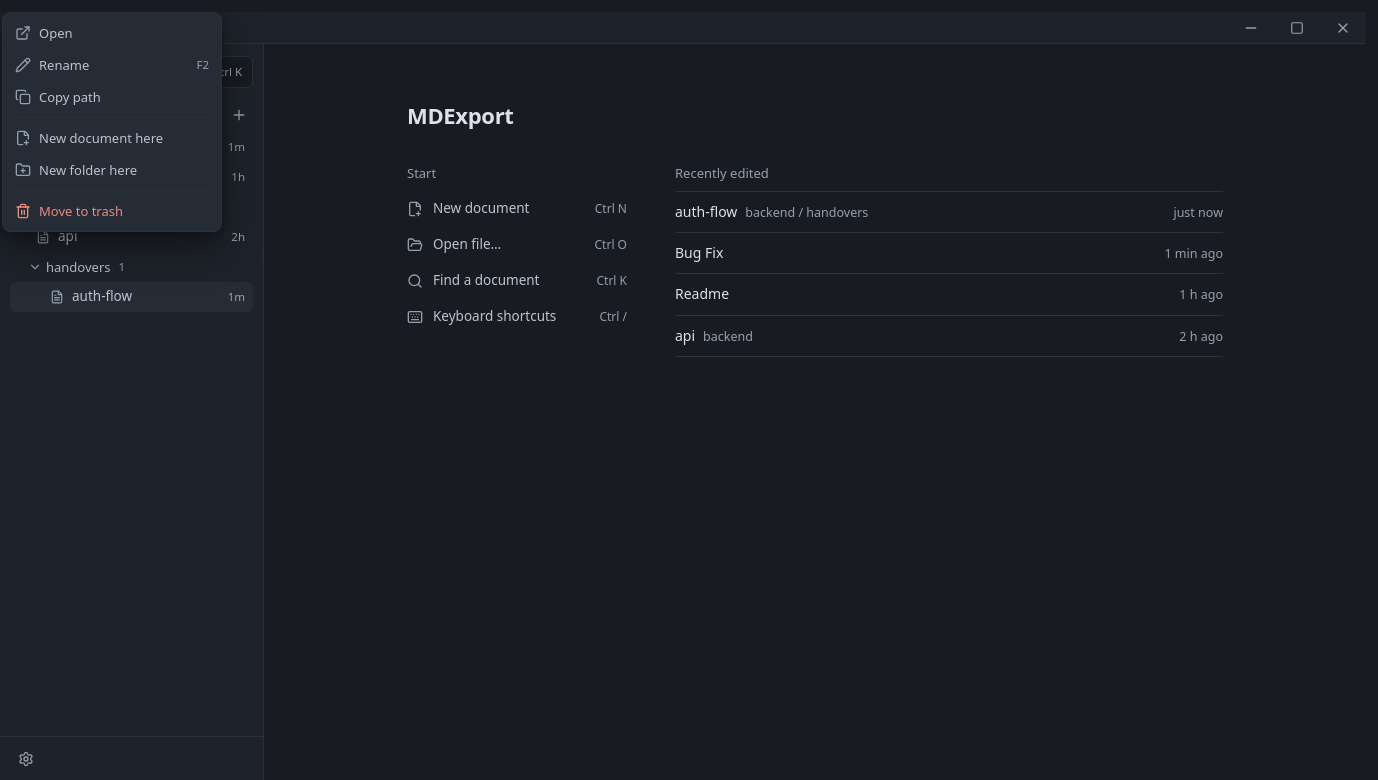
Test: Renaming documents › shows errors inline and keeps the field open to fix them
Click the menu item "Rename F2". click: (64, 65)
box: [15,56,209,74]
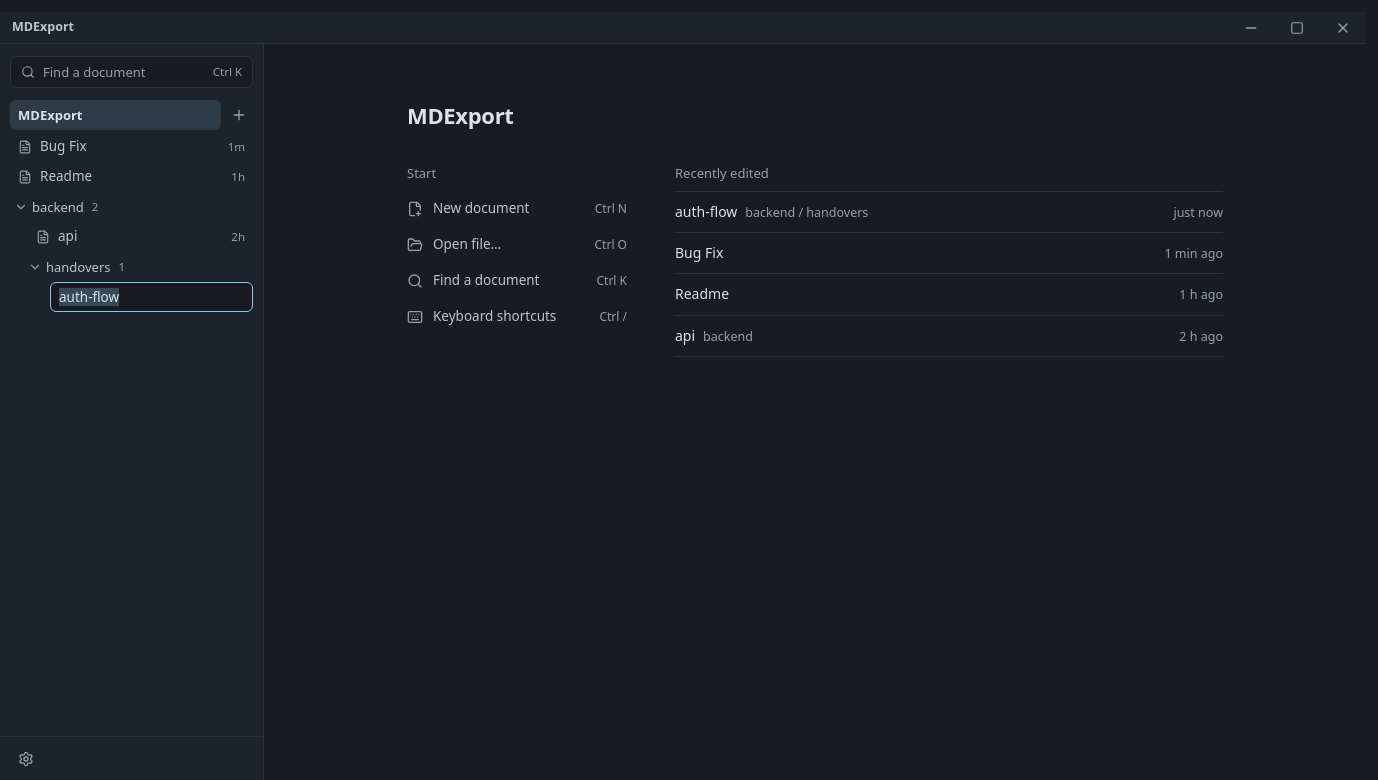
Replace the text in the field named "Document name" with "payments". click: (152, 297)
box: [50,282,253,312]
Then press Enter
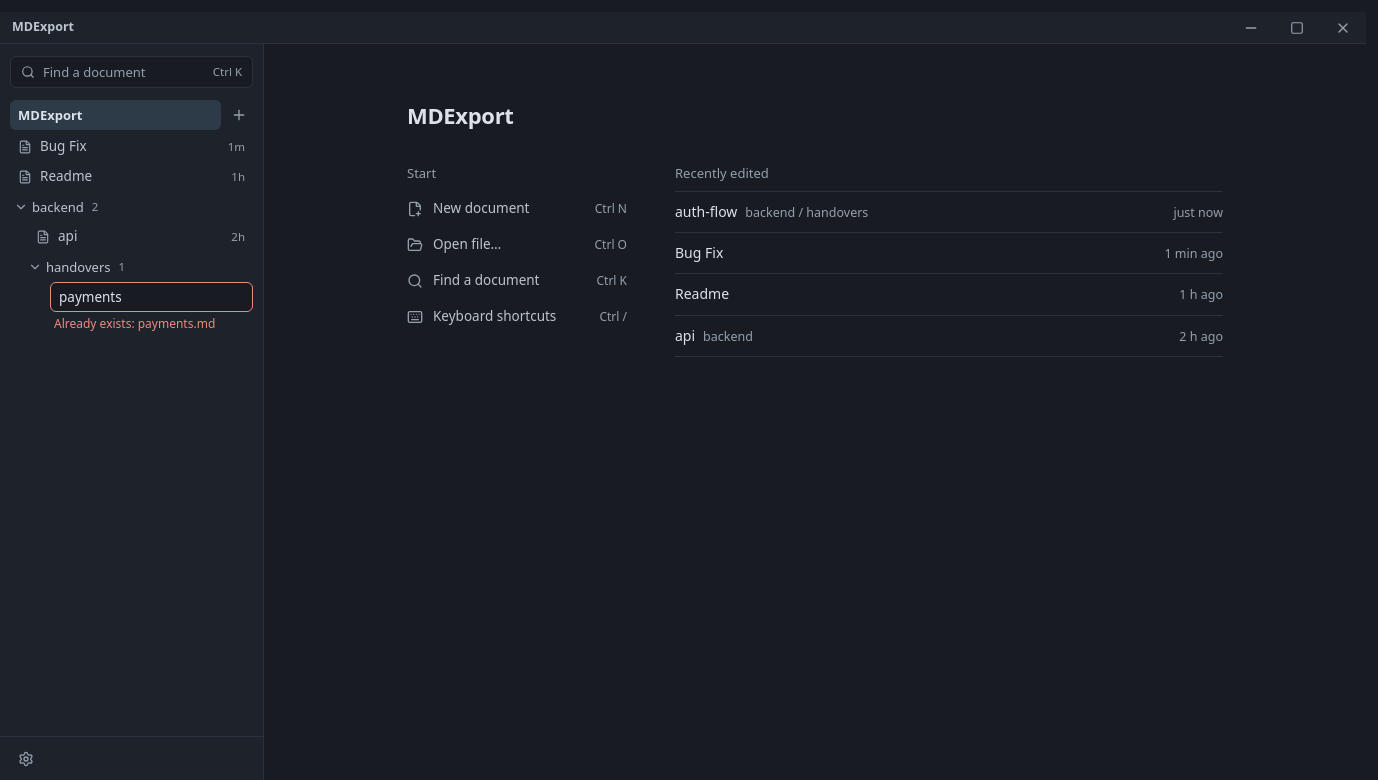
Expected: the message reads "Already exists: payments.md", [54,315,215,332]
Replace the text in the field named "Document name" with "login-flow". click: (152, 297)
box: [50,282,253,312]
Then press Enter
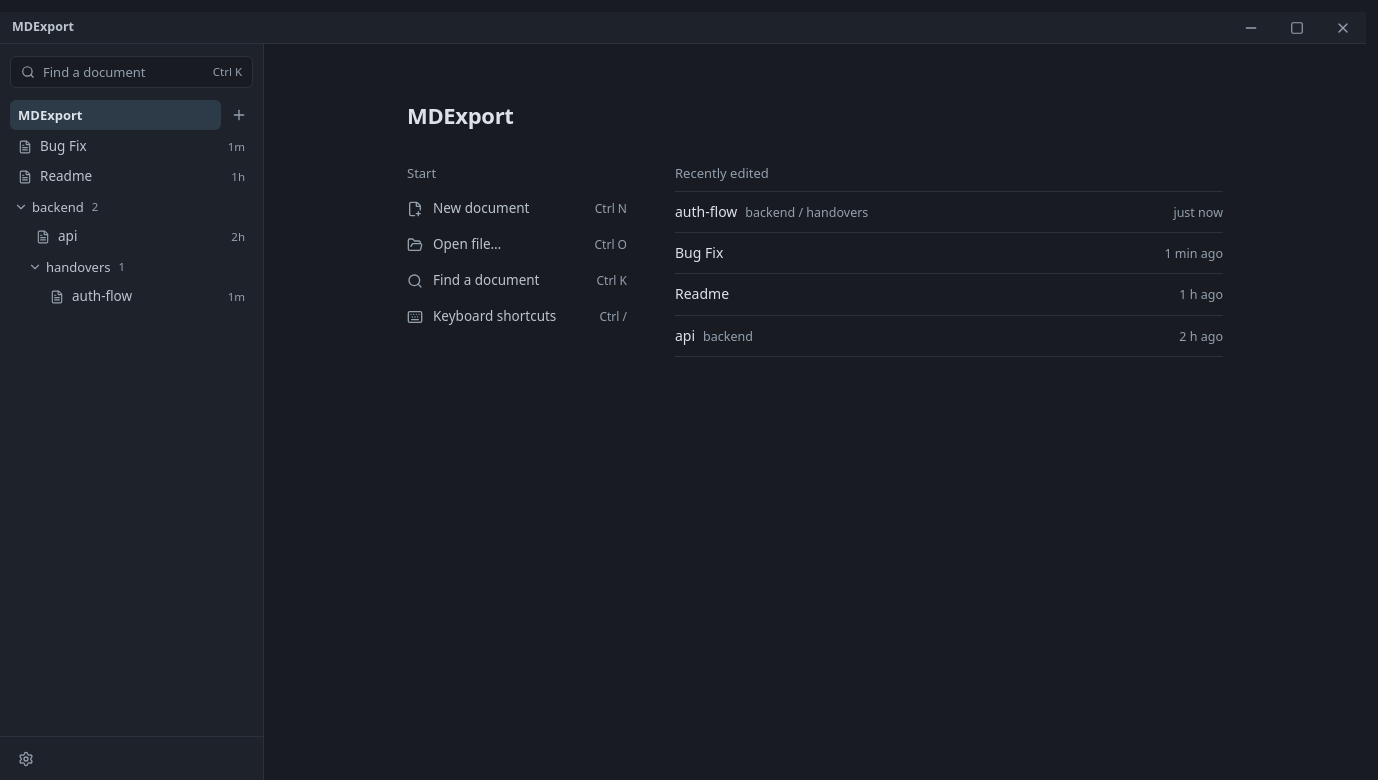
Expected: the field is gone
